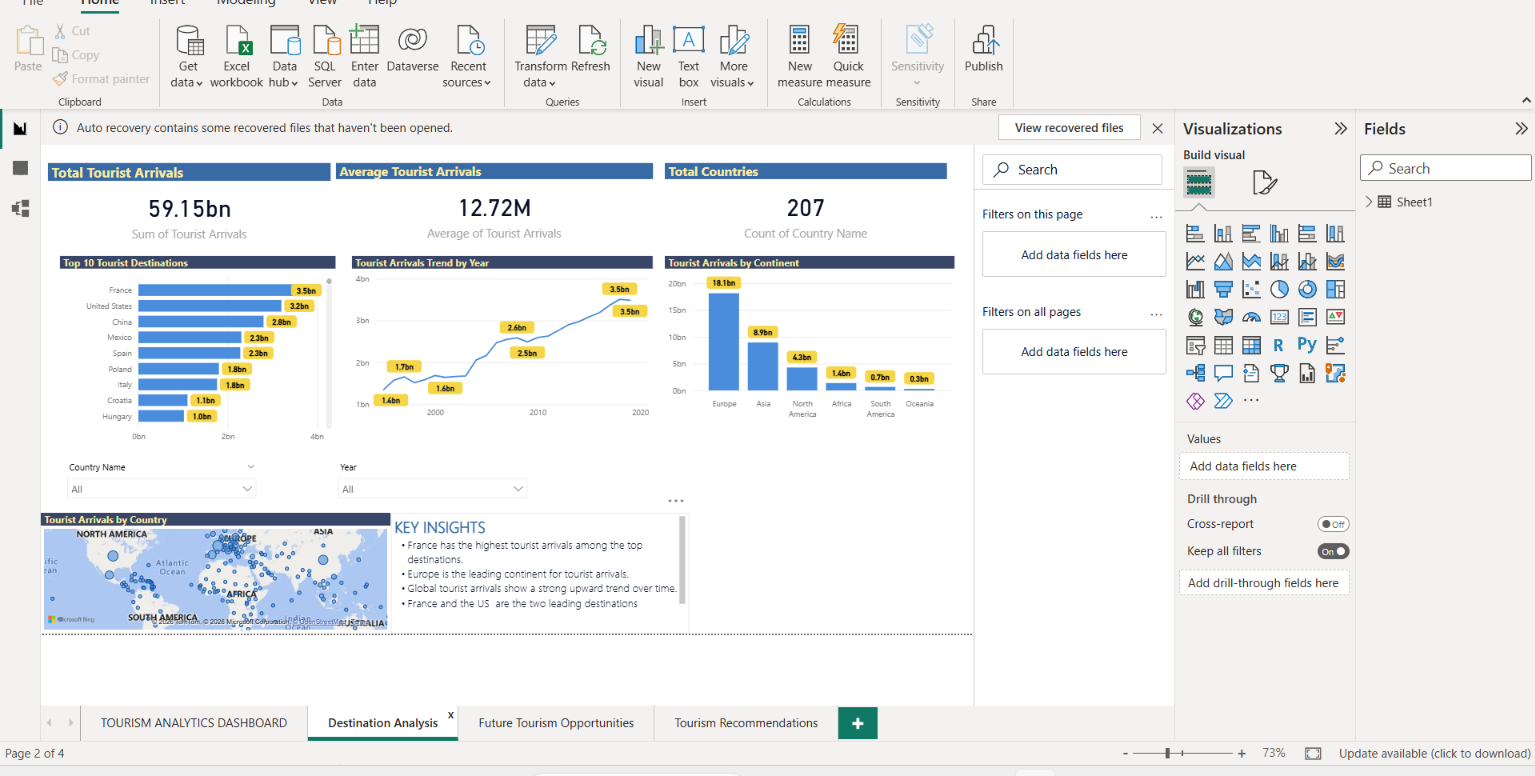

The dashboard page shown, as its layout file describes it:
{"tool":"powerbi","page":{"name":"Destination Analysis","canvas":[1280,720],"ordinal":1},"visuals":[{"type":"card","title":"Total Tourist Arrivals","fields":{"Values":["Sum(Sheet1.Tourist Arrivals)"]},"box":[9.6,74.1,388.3,116.6],"z":0},{"type":"card","title":"Average Tourist Arrivals","fields":{"Values":["Avg(Sheet1.Tourist Arrivals)"]},"box":[404.8,74.1,435,116.6],"z":1000},{"type":"card","title":"Total Countries","fields":{"Values":["Count(Sheet1.Country Name)"]},"box":[856.3,74.1,387,116.6],"z":2000},{"type":"clusteredBarChart","title":"Top 10 Tourist Destinations","fields":{"Category":["Sheet1.Country Name"],"Y":["Sum(Sheet1.Tourist Arrivals)"]},"box":[26.1,201.7,378.7,264.8],"z":3000},{"type":"lineChart","title":"Tourist Arrivals Trend by Year","fields":{"Category":["Sheet1.Year"],"Y":["Sum(Sheet1.Tourist Arrivals)"]},"box":[426.8,201.7,413,231.9],"z":4000},{"type":"clusteredColumnChart","title":"Tourist Arrivals by Continent","fields":{"Category":["Sheet1.Continent"],"Y":["Sum(Sheet1.Tourist Arrivals)"]},"box":[856.3,201.7,397.9,231.9],"z":5000},{"type":"slicer","fields":{"Values":["Sheet1.Country Name"]},"box":[26.1,478.9,279.9,93.3],"z":6000},{"type":"slicer","fields":{"Values":["Sheet1.Year"]},"box":[397.9,478.9,279.9,75.5],"z":7000},{"type":"map","title":"Tourist Arrivals by Country","fields":{"Category":["Sheet1.Country Name"],"Size":["Sum(Sheet1.Tourist Arrivals)"]},"box":[0,554,480.3,166],"z":8000},{"type":"textbox","box":[480.3,554,408.9,166],"z":9000},{"type":"textbox","box":[204.5,16.5,736.9,45.3],"z":10000}]}

Visuals, with their boxes on the page's 1280x720 design canvas (x1, y1, x2, y2). These are canvas units, not pixel positions in the 1535x776 screenshot, which may show the page scaled, cropped or inside an application window:
"Total Tourist Arrivals" card: 10 74 398 191
"Average Tourist Arrivals" card: 405 74 840 191
"Total Countries" card: 856 74 1243 191
"Top 10 Tourist Destinations" clusteredBarChart: 26 202 405 466
"Tourist Arrivals Trend by Year" lineChart: 427 202 840 434
"Tourist Arrivals by Continent" clusteredColumnChart: 856 202 1254 434
slicer - Sheet1.Country Name: 26 479 306 572
slicer - Sheet1.Year: 398 479 678 554
"Tourist Arrivals by Country" map: 0 554 480 720
textbox: 480 554 889 720
textbox: 204 16 941 62
